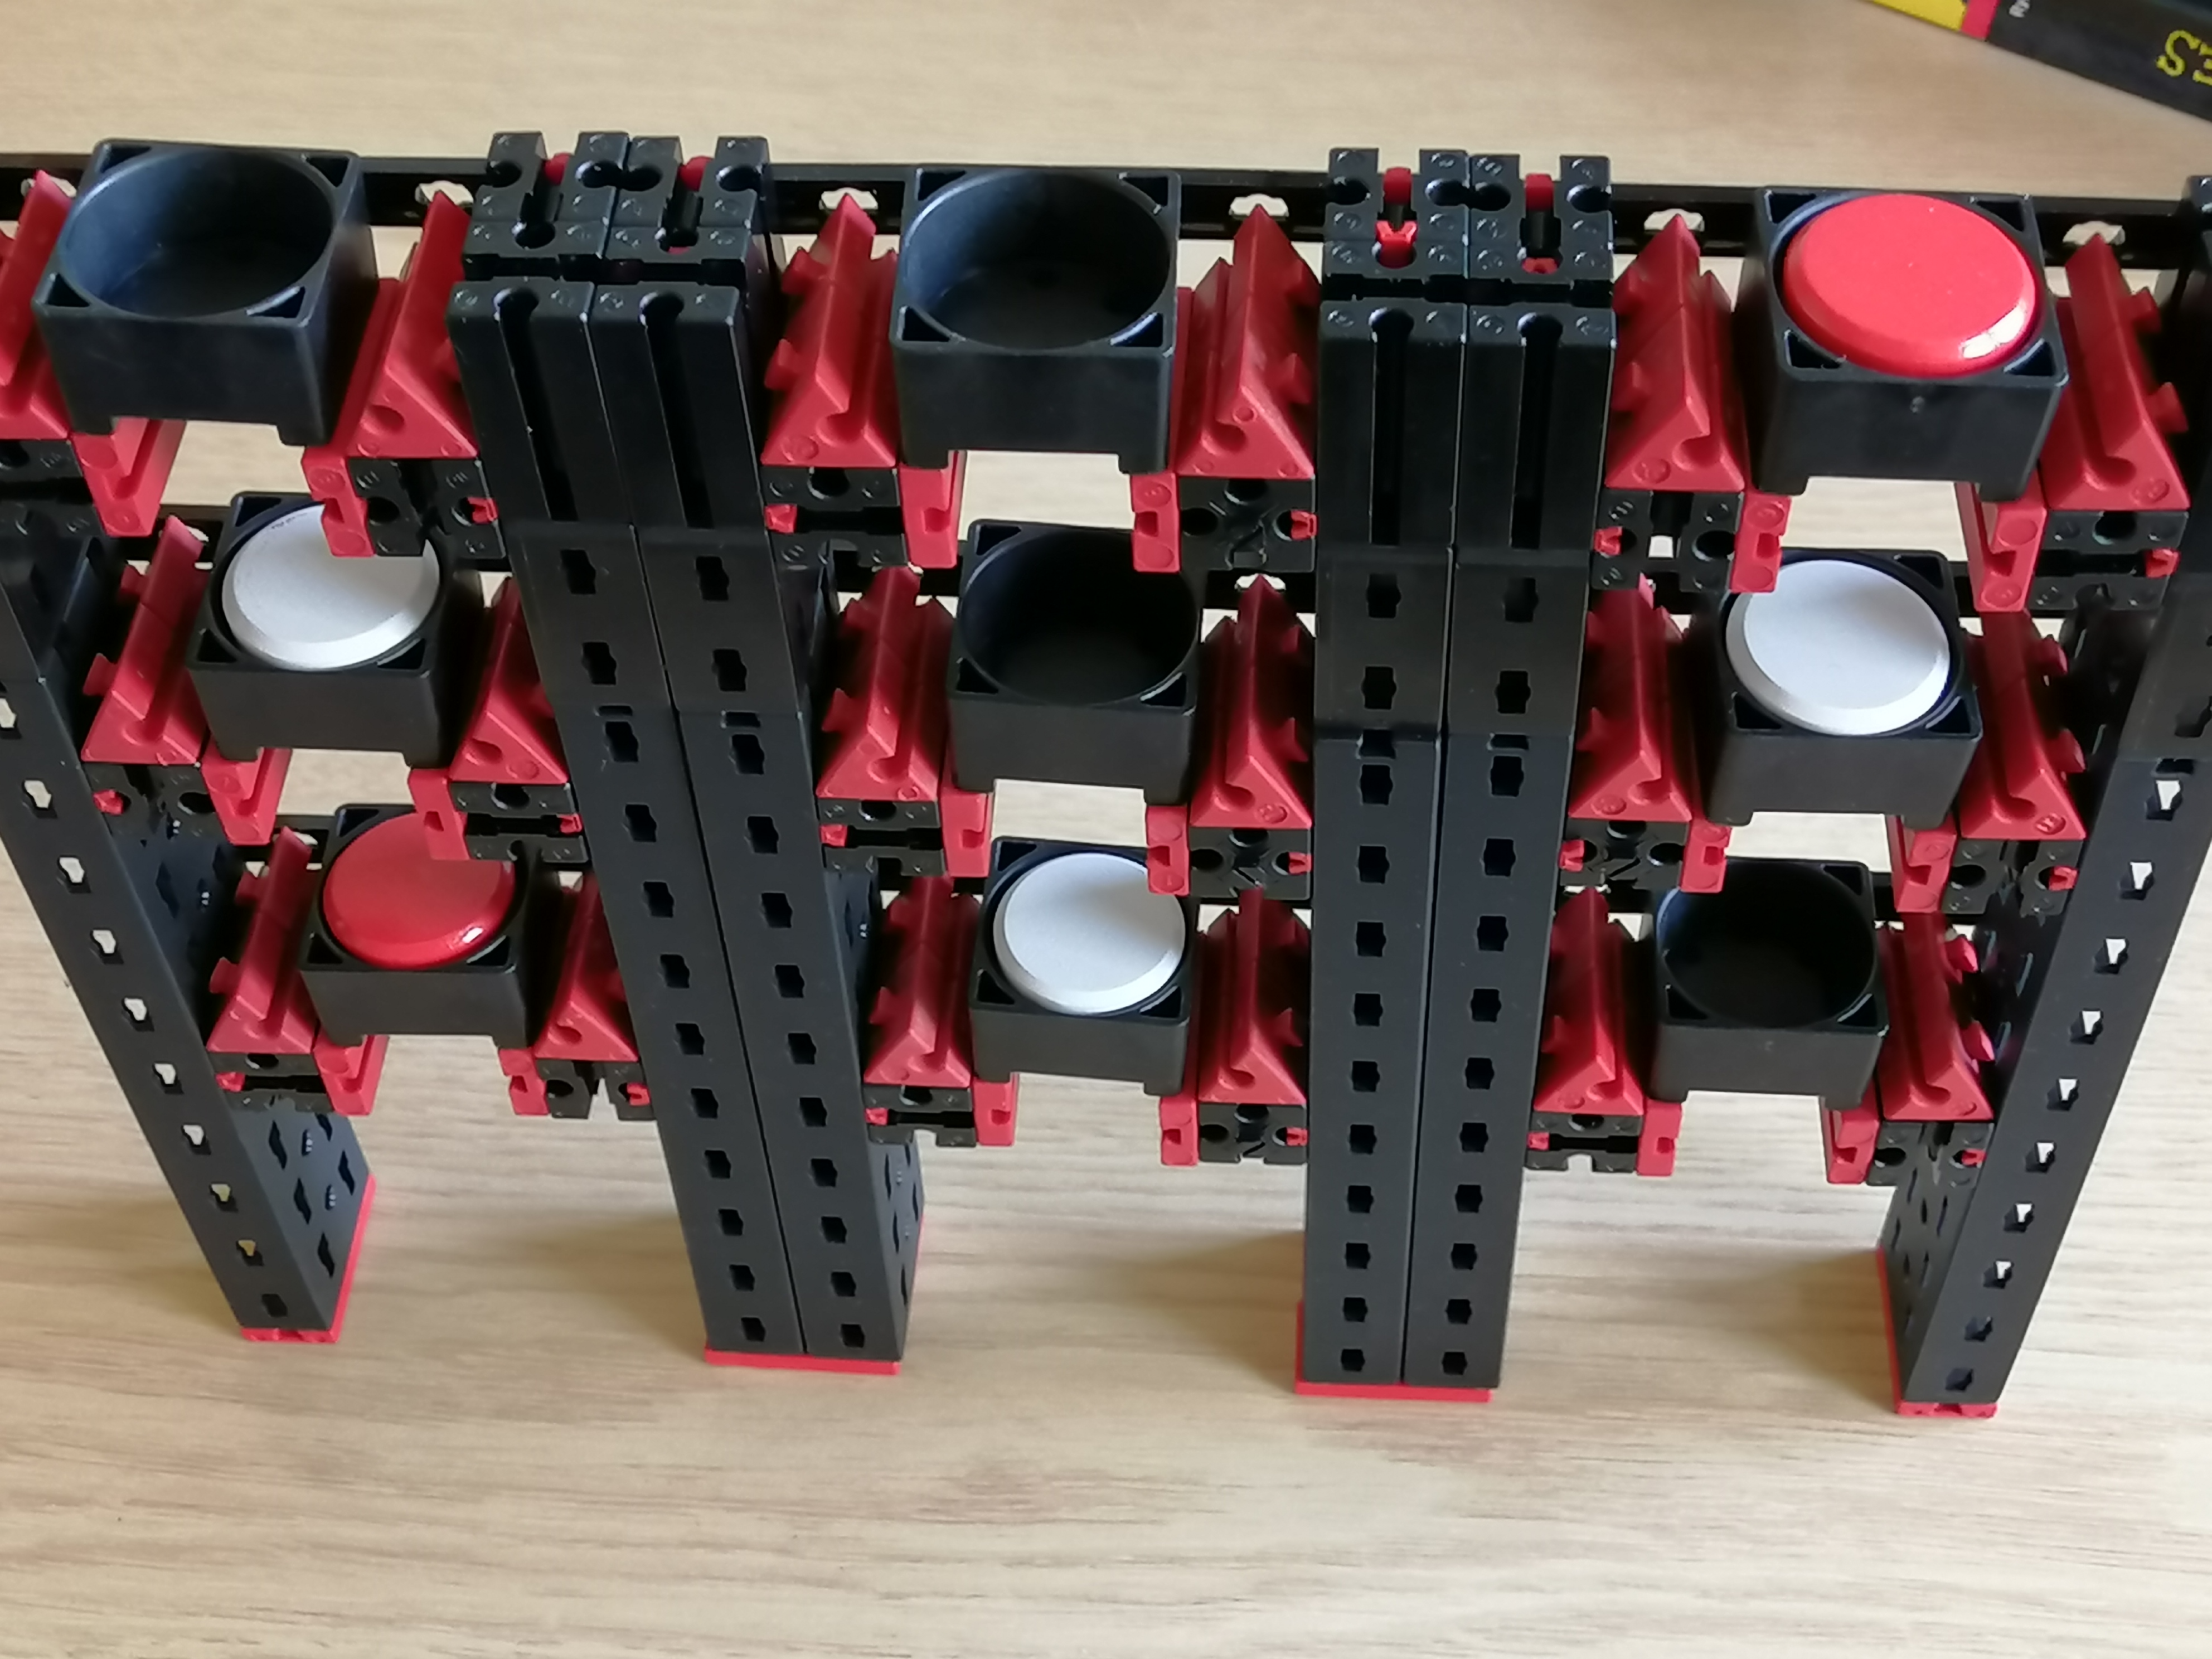Behaelter: (1743, 192, 2026, 495), (897, 173, 1177, 467), (61, 141, 340, 432), (195, 547, 475, 760), (953, 575, 1197, 802), (1691, 620, 1958, 826), (1646, 913, 1876, 1105), (965, 896, 1200, 1075), (312, 866, 540, 1049)
WerkStueck: (1789, 200, 2027, 373), (1742, 589, 1947, 732), (1001, 857, 1151, 1016), (333, 854, 517, 969), (240, 554, 435, 657)
